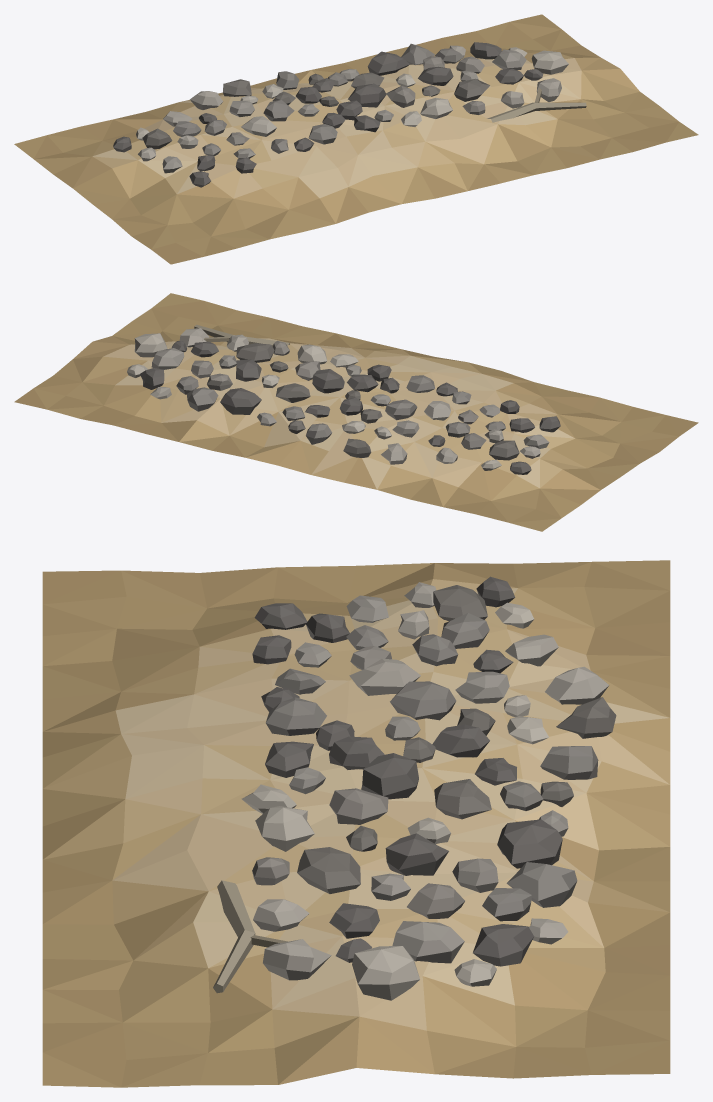
Rendered from river_shoal.glb.
3 renders of one model, top to bottom at view 1: azimuth 30°, elevation 25°; view 2: azimuth 150°, elevation 25°; view 3: azimuth 270°, elevation 25°, orthographic. The views are drawn at different scales.
Visible parts, largest first — view 1: river_shoal; view 2: river_shoal; view 3: river_shoal.
Boxes of the visible parts, x1,y1,x2,y2 form: river_shoal: (14,14,698,264); river_shoal: (14,293,698,531); river_shoal: (42,560,670,1087).
Bounding box in the file's own units: 8.4 × 0.6963 × 4.32.
